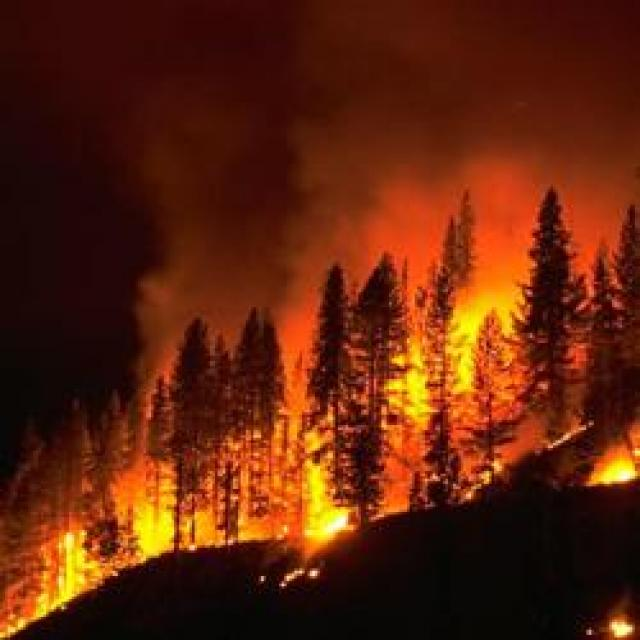fire: (0, 483, 231, 632), (364, 274, 546, 416), (268, 434, 374, 553), (575, 431, 640, 504)
